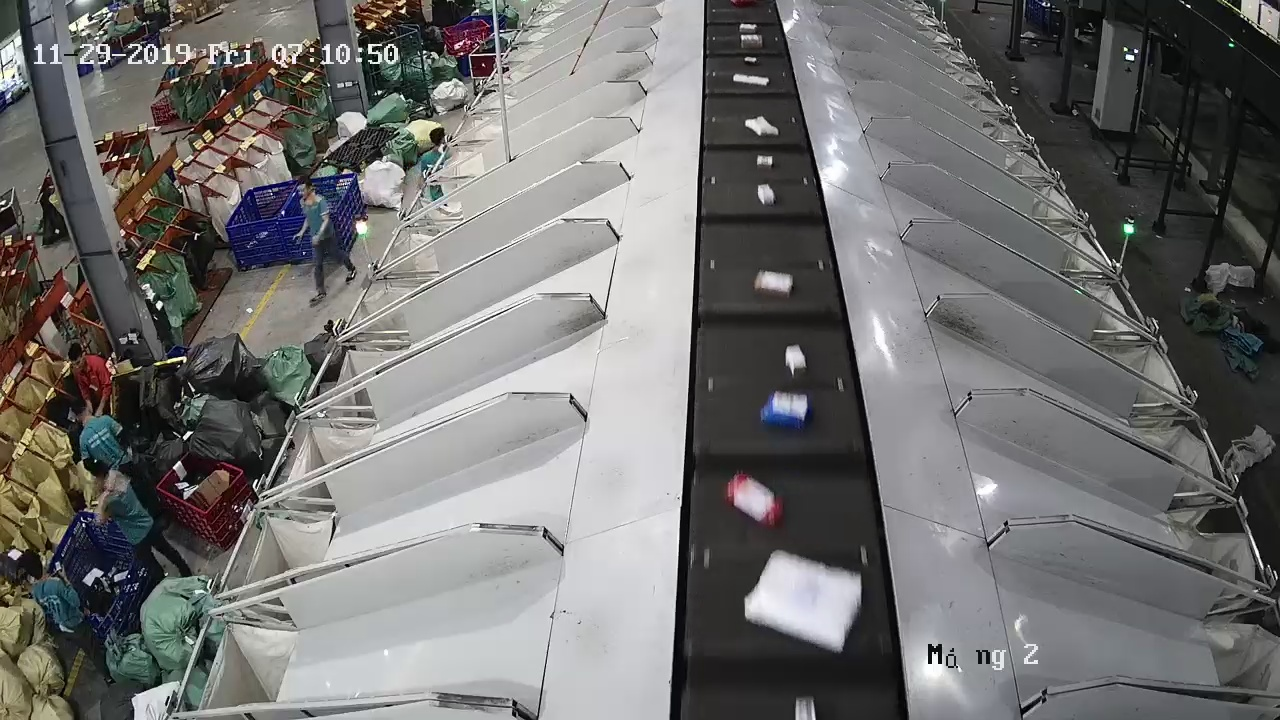parcel: (744, 549, 862, 653), (724, 471, 785, 530), (759, 389, 814, 431), (753, 269, 794, 301), (744, 115, 780, 137), (784, 344, 806, 371), (757, 183, 776, 206), (757, 155, 773, 170)
